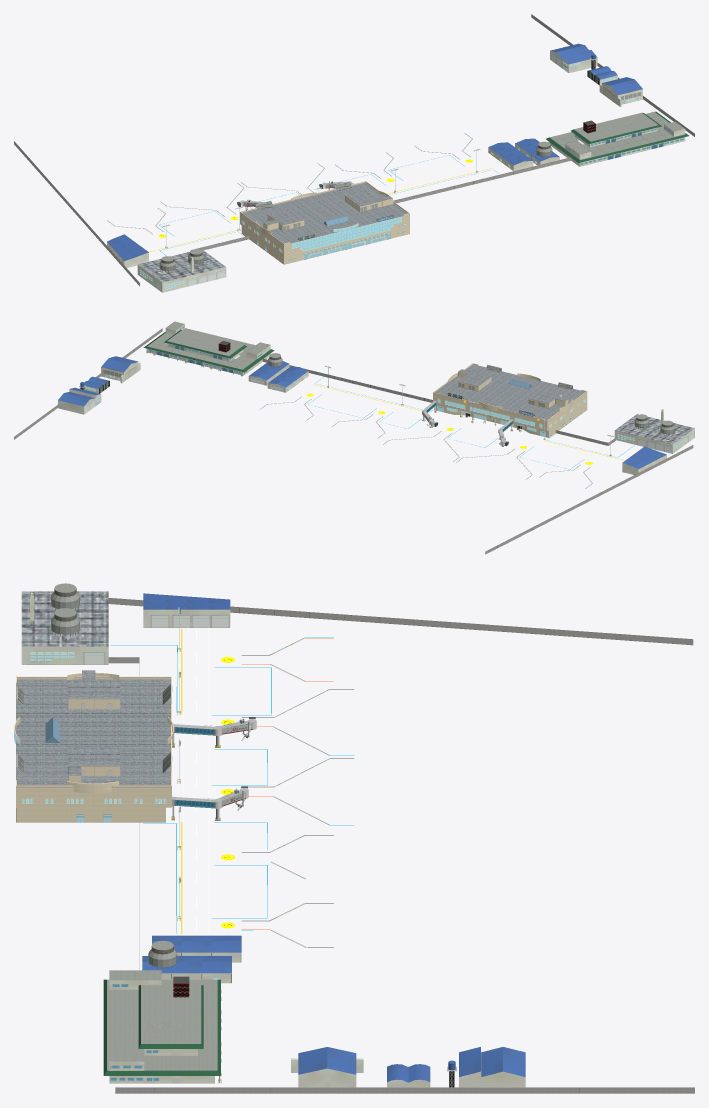
File: terminal.gltf
3 renders of one model, top to bottom at view 1: azimuth 30°, elevation 25°; view 2: azimuth 150°, elevation 25°; view 3: azimuth 270°, elevation 25°, orthographic. The views are drawn at different scales.
Parts seen in each view (by area): view 1: node1, node4, node3, node2, node5; view 2: node1, node4, node3, node2, node5; view 3: node1, node4, node3, node2, node5.
Part boxes in pixels (left/top/right/bottom): node1: left=162, top=142, right=549, bottom=264; node4: left=14, top=14, right=694, bottom=292; node3: left=302, top=111, right=688, bottom=239; node2: left=159, top=66, right=642, bottom=272; node5: left=107, top=60, right=595, bottom=255; node1: left=146, top=349, right=613, bottom=456; node4: left=14, top=328, right=694, bottom=554; node3: left=143, top=321, right=532, bottom=415; node2: left=84, top=353, right=675, bottom=435; node5: left=80, top=341, right=634, bottom=488; node1: left=14, top=607, right=221, bottom=1083; node4: left=21, top=591, right=694, bottom=1093; node3: left=103, top=970, right=220, bottom=1083; node2: left=51, top=583, right=430, bottom=1087; node5: left=16, top=629, right=454, bottom=1087.
Bounding box in the file's own units: 402 × 17.14 × 235.
